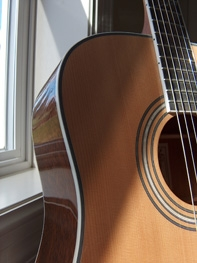guitar: (29, 1, 197, 263)
